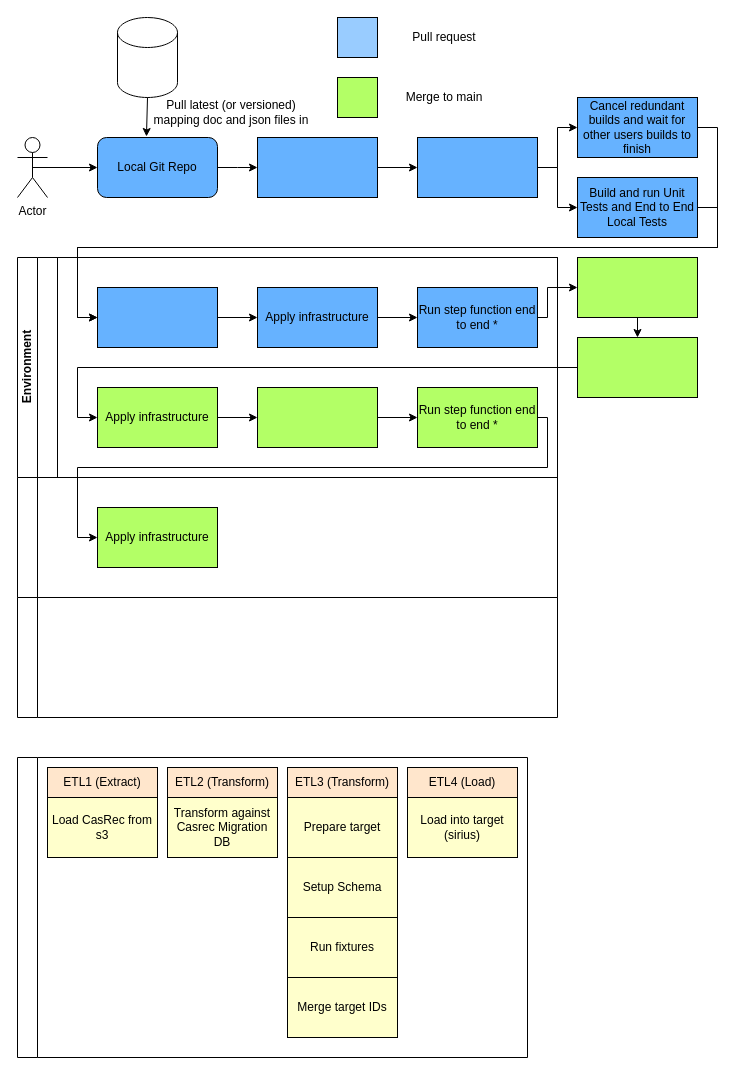
Image size: 743x1075. Some labels were removed from this diagram. Each missing label, with the box of its shape:
* Step Function Steps: (16, 756, 528, 1058)
Build and unit test against main: (576, 336, 698, 398)
Create PR: (416, 136, 538, 198)
Development: (36, 256, 558, 478)
Plan infrastructure: (96, 286, 218, 348)
PreProduction: (16, 476, 558, 598)
Production: (16, 596, 558, 718)
Push to GitHub: (256, 136, 378, 198)
Reset Sirius (reset api, membrane, load fixtures, elasticache job): (256, 386, 378, 448)
S3: (116, 16, 178, 98)
Sign off PR and Merge: (576, 256, 698, 318)
